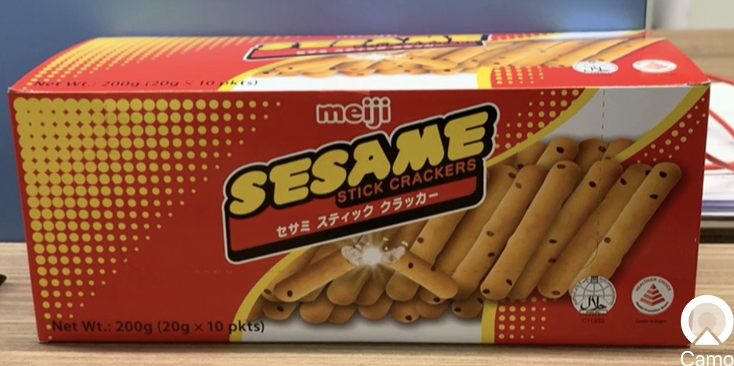crackers_200g-299g: (29, 75, 676, 335)
